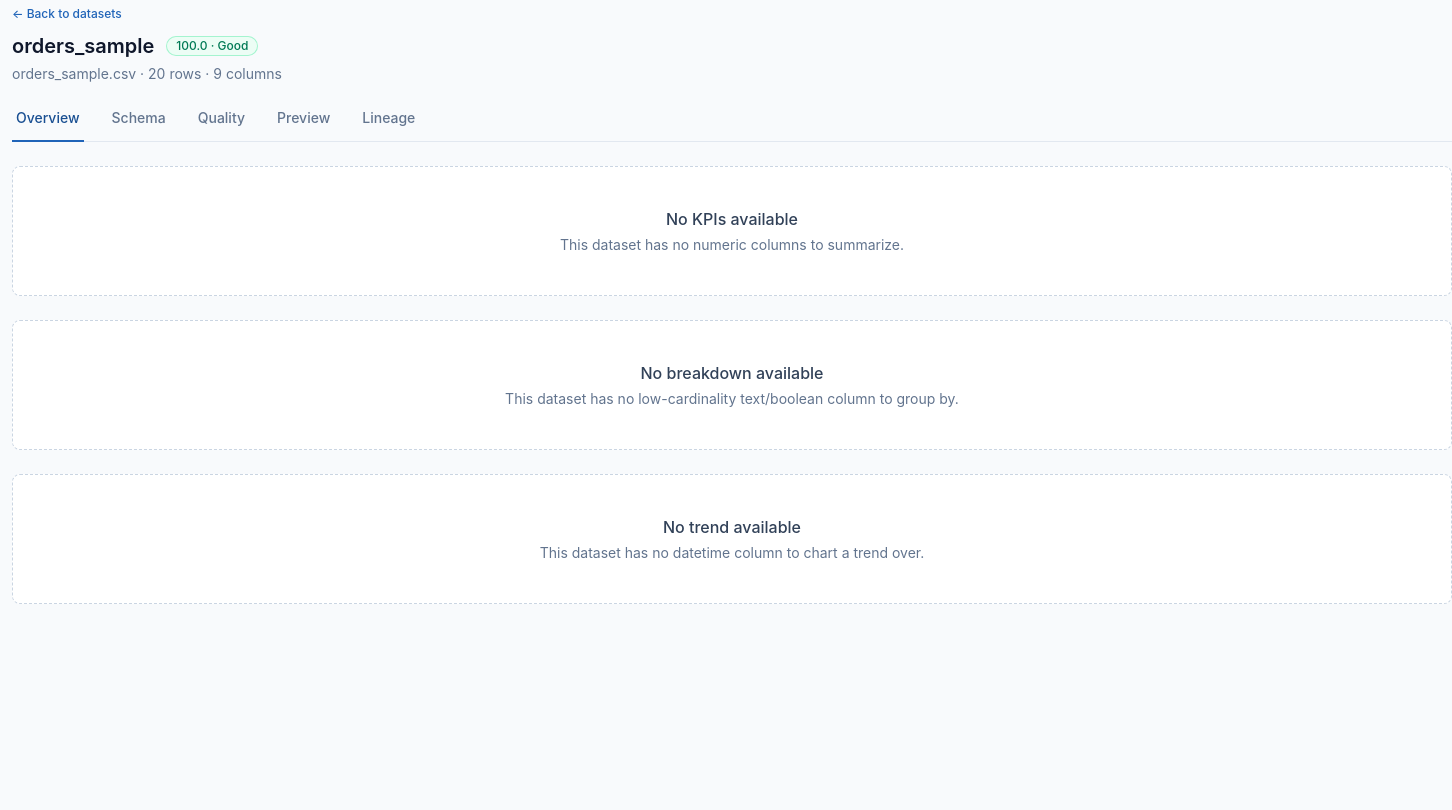
Scenario: DatasetDetailPage › shows real column data on the Schema tab
Expected: the heading "orders_sample" is shown, [12,32,154,60]
What coordinates should you click on to do the following:
click the button "Schema"
I would click on:
 (139, 125)
Its box is [108,108,170,142].
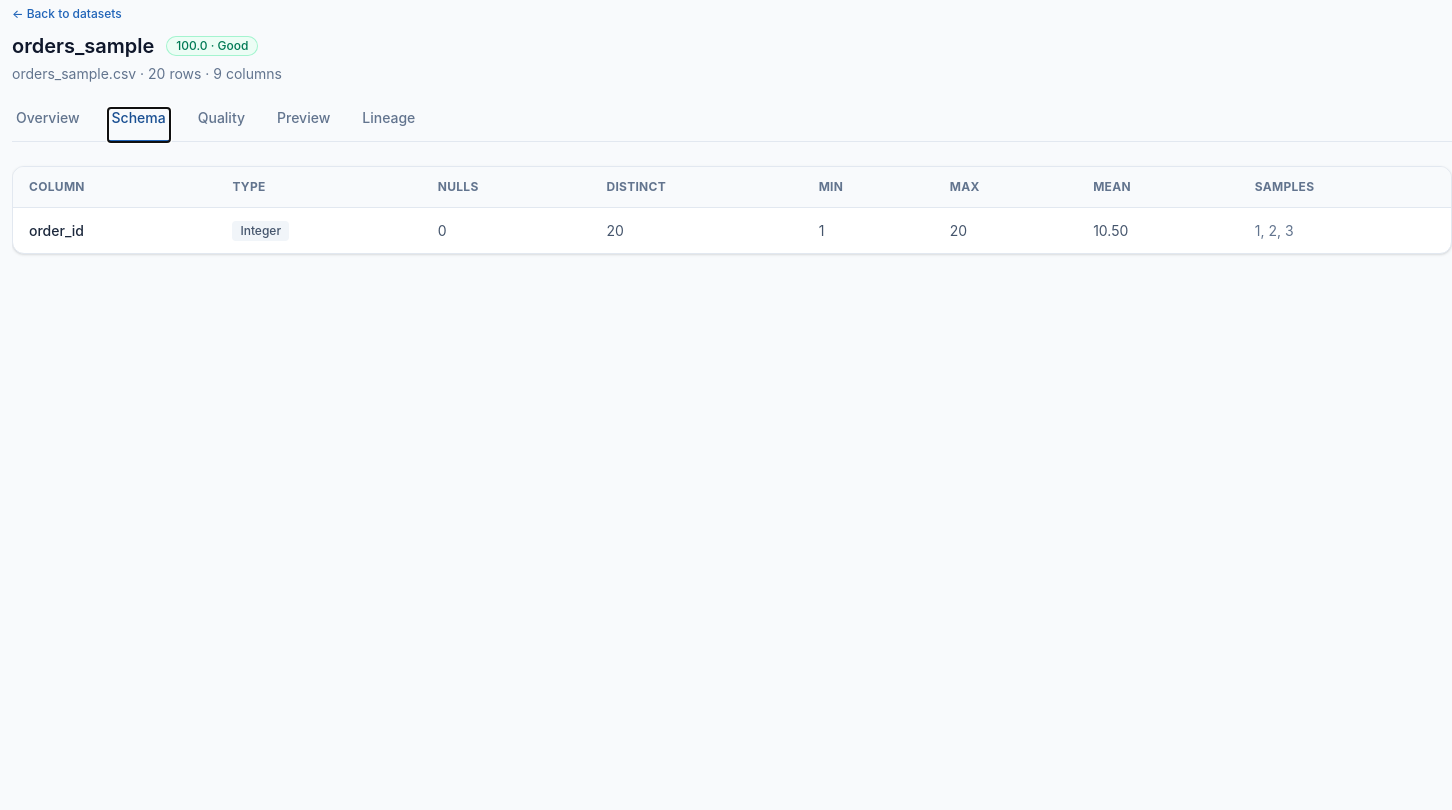
Expected: the text "order_id" is shown, [29,222,84,238]
Expected: the text "Integer" is shown, [232,221,289,241]
